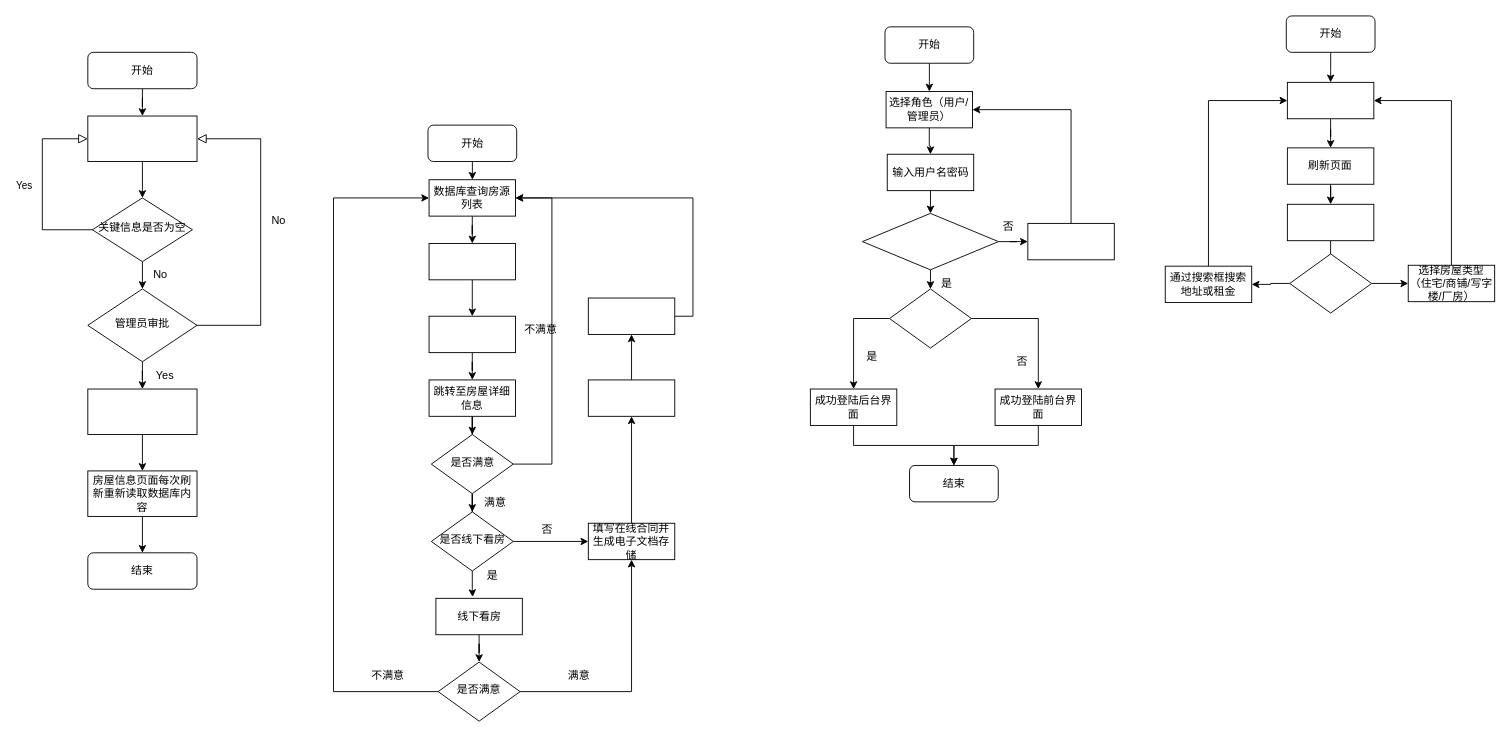
The diagram is 1511 pixels wide and 737 high, and some of its shapes have lost their labels. Each missing label, with the centre of its shape:
上传数据库缴租情况: (x=631, y=315)
将房屋信息保存至数据库: (x=142, y=411)
支付租金: (x=631, y=397)
浏览房源列表: (x=472, y=261)
用户名和密码是否正确: (x=929, y=241)
用户填写并上传房屋信息: (x=142, y=138)
用户查询: (x=1330, y=222)
申请看房: (x=472, y=334)
筛选方式: (x=1330, y=283)
管理员？: (x=930, y=318)
调用数据库: (x=1330, y=100)
错误提示: (x=1070, y=241)
